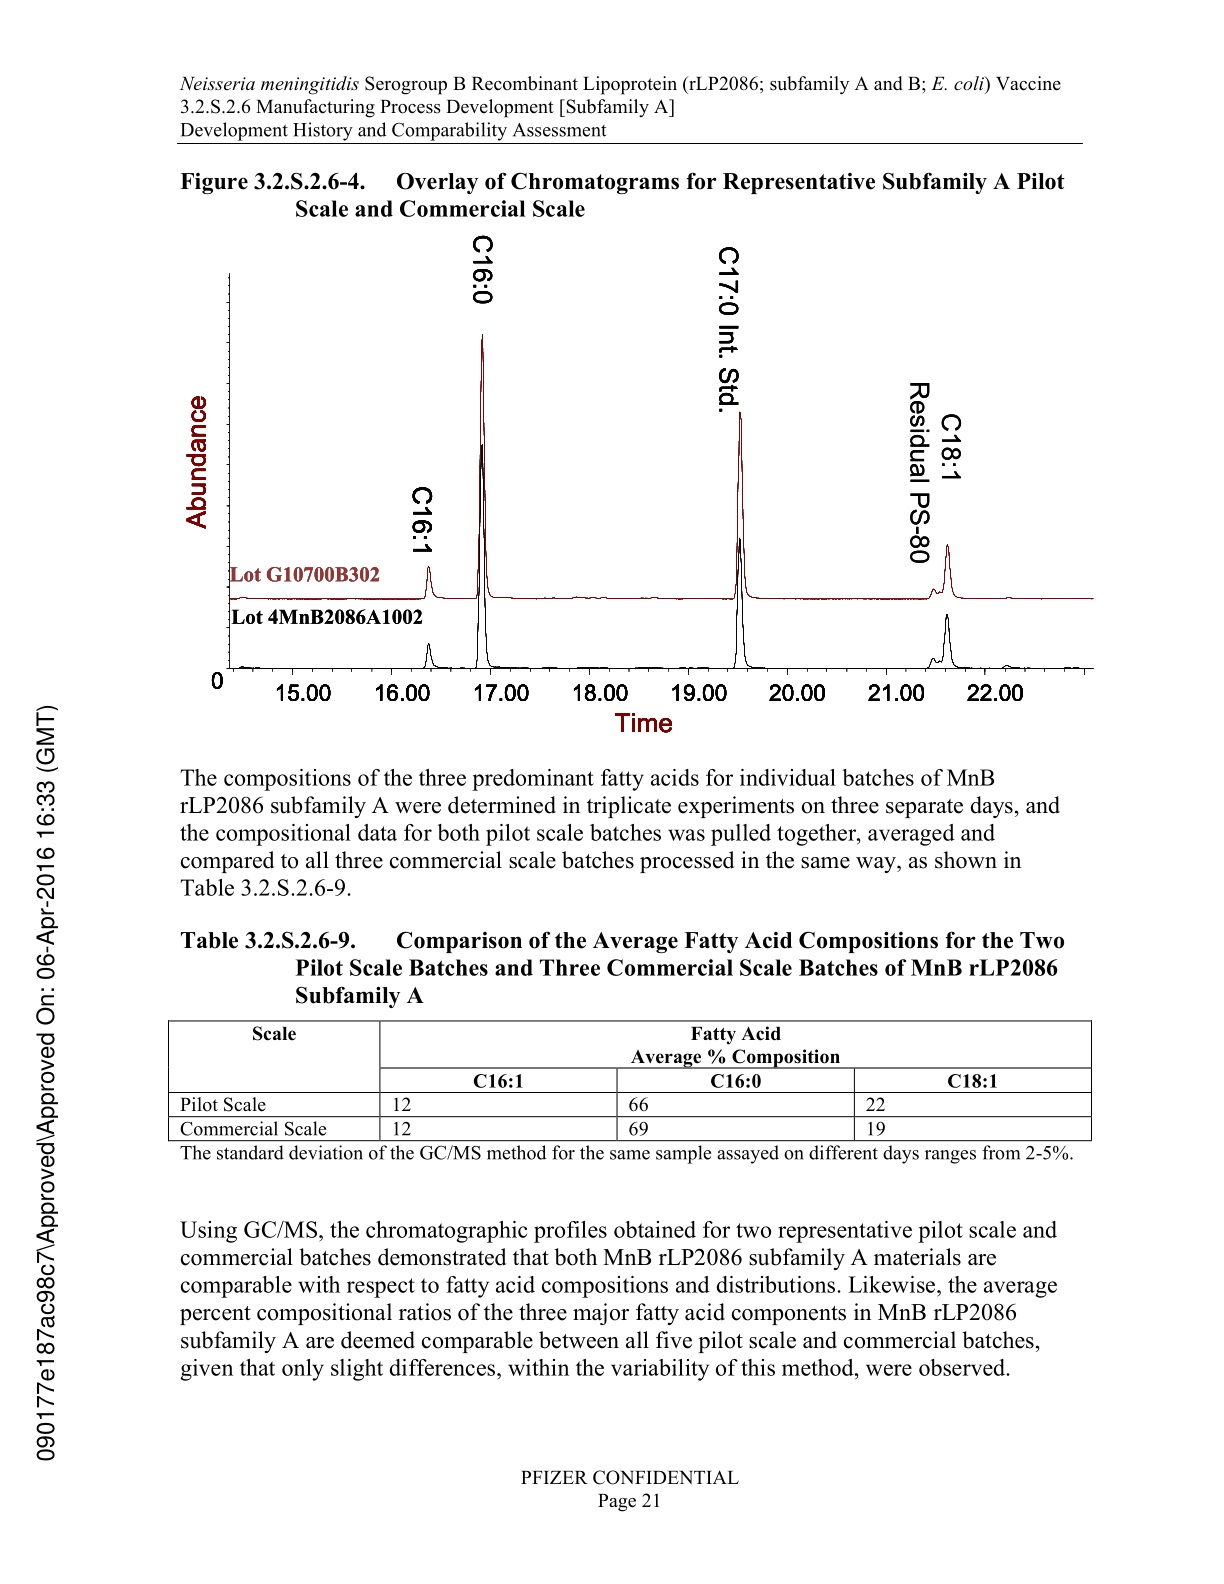merged_cells: (168, 1020, 1092, 1142)
